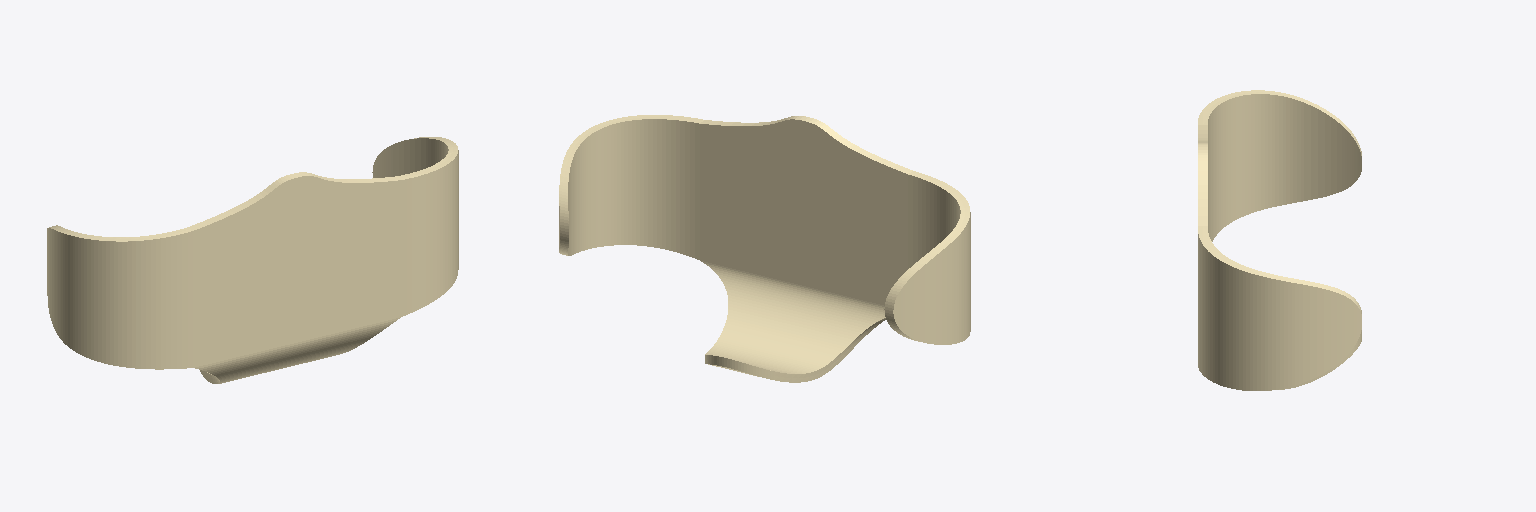
The model's file is desk1.obj.
3 renders of one model, left to right at view 1: azimuth 30°, elevation 25°; view 2: azimuth 150°, elevation 25°; view 3: azimuth 270°, elevation 25°, orthographic.
Visible parts, largest first — view 1: MANTA; view 2: MANTA; view 3: MANTA.
Part boxes in pixels (bbox=[...]): MANTA: bbox=[47, 137, 458, 383]; MANTA: bbox=[559, 115, 970, 382]; MANTA: bbox=[1198, 90, 1361, 390].
Bounding box in the file's own units: 1 × 0.5386 × 0.3707.